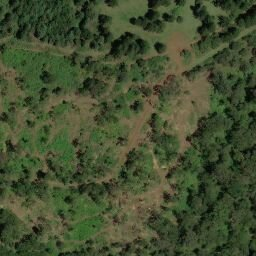forest: (199, 116, 256, 256), (1, 1, 90, 44), (174, 194, 199, 256)
